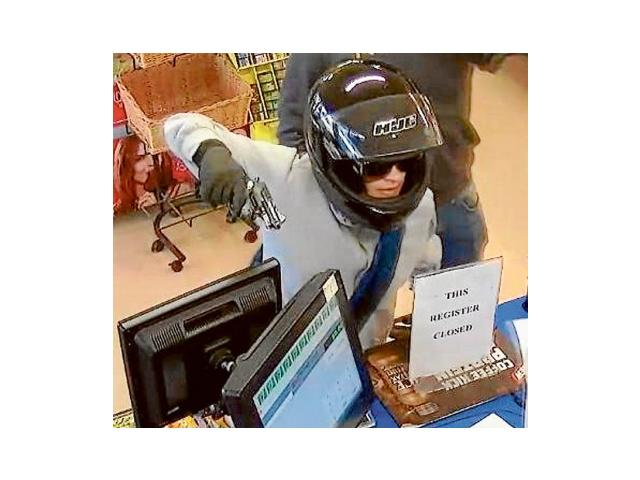pistol: (194, 171, 286, 230)
